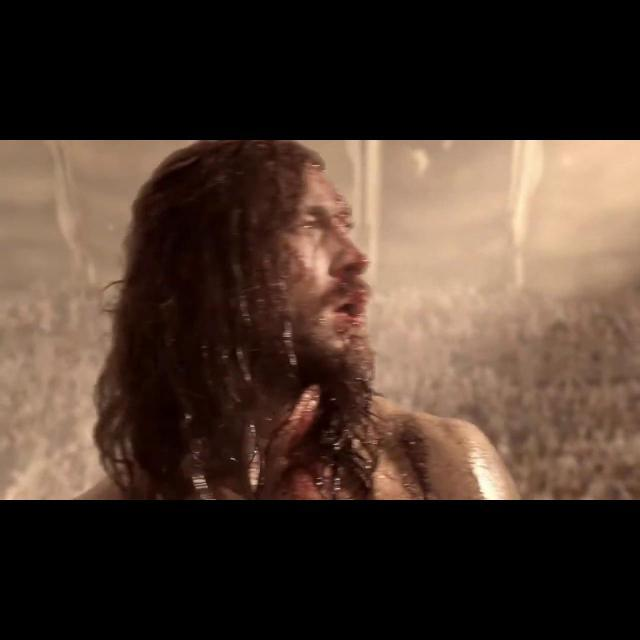blood: (296, 167, 368, 284)
